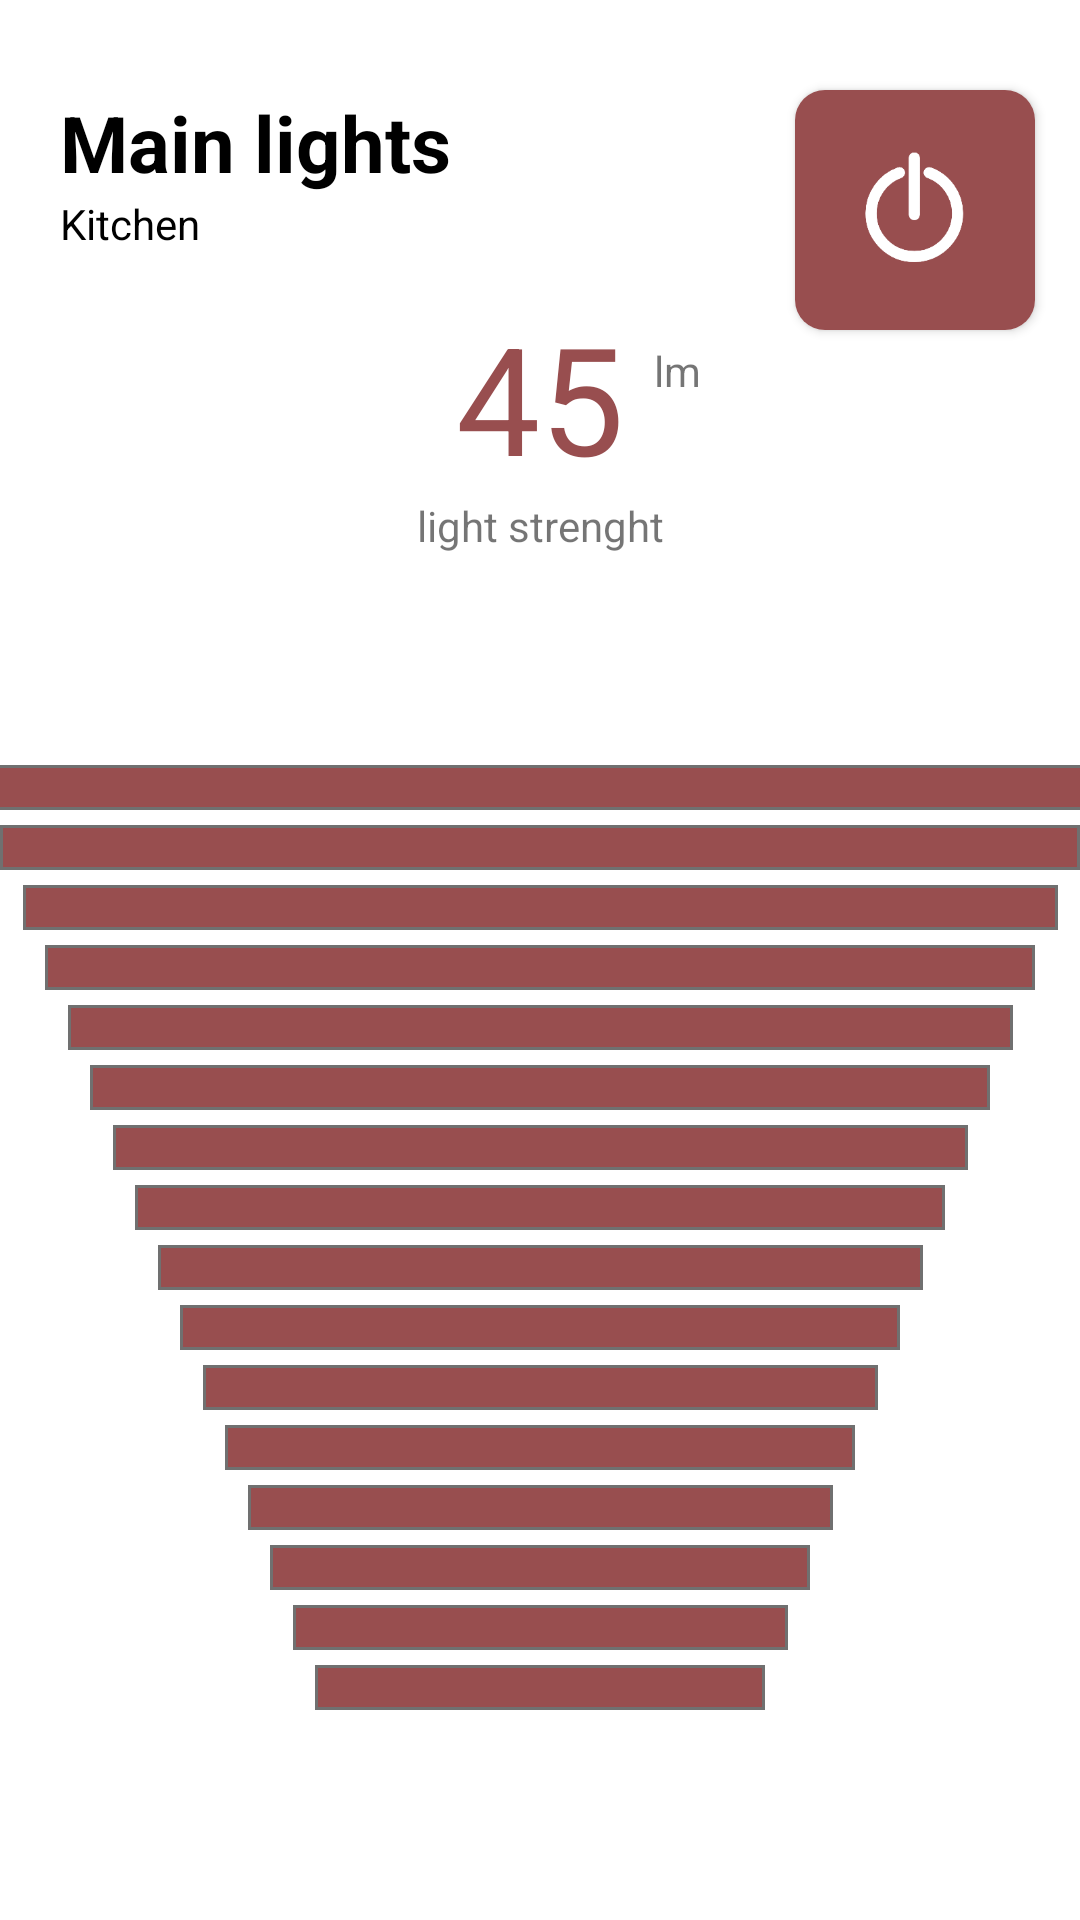

Locate icon controls on the screen. Image size 1080px×1920px, boxes as (x1, y1, x2, y2).
power on off: (795, 90, 1035, 330)
